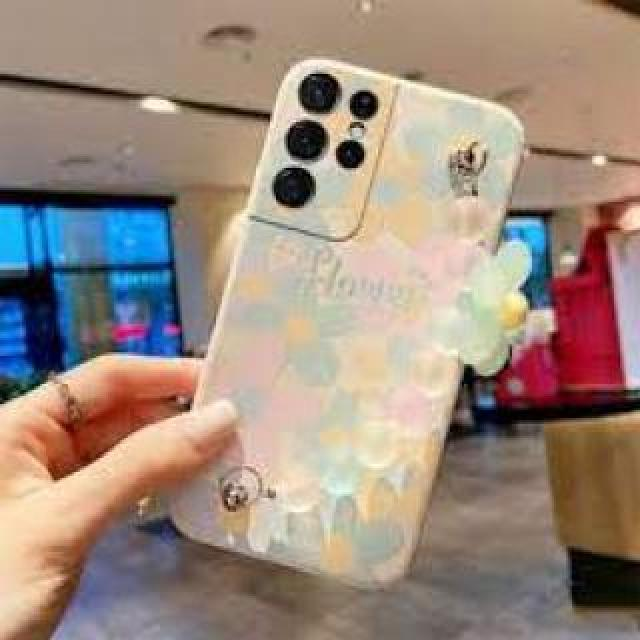smart phone: (172, 47, 496, 585)
